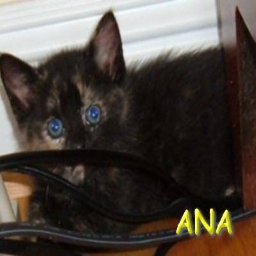cat: (0, 11, 253, 221)
